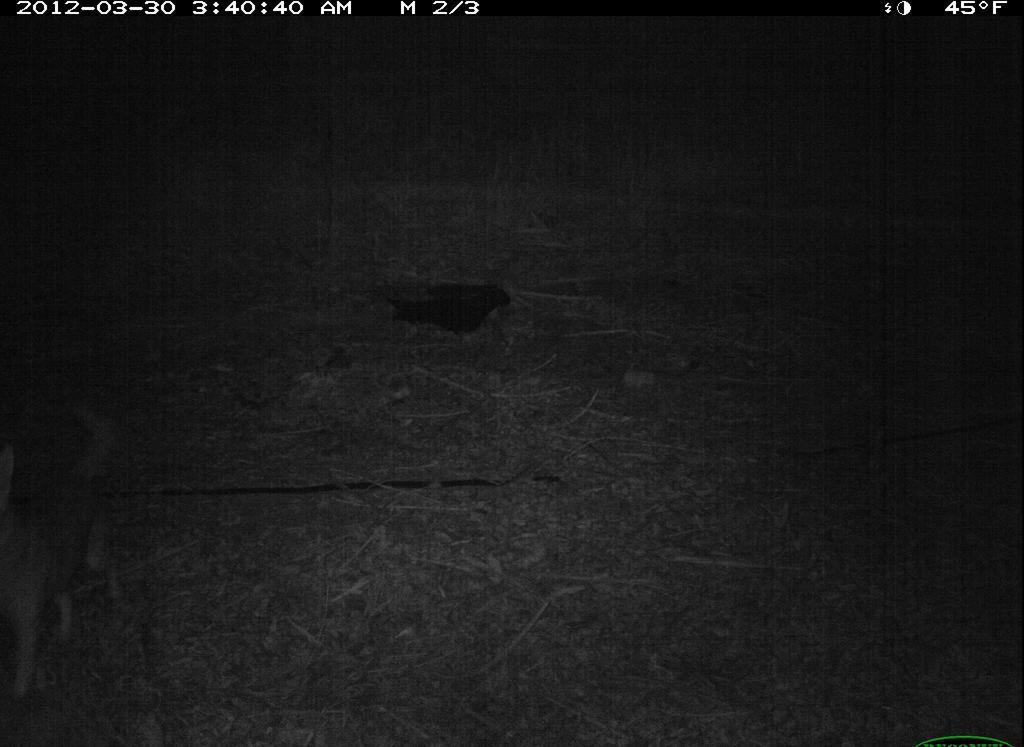coyote: (3, 377, 153, 702)
